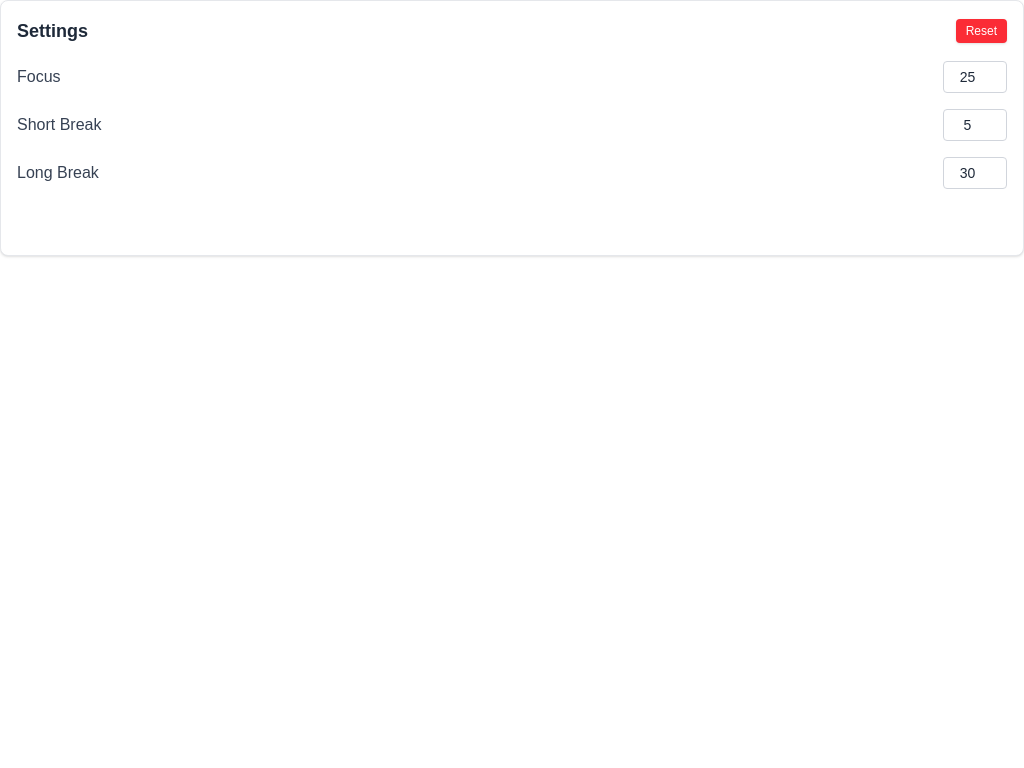
Test: Settings Component › Behavior #14: Reset button in Settings section › should show confirmation dialog when reset button is clicked
Click the button with aria-label "reset settings". click: [981, 31]
box: [956,19,1007,43]
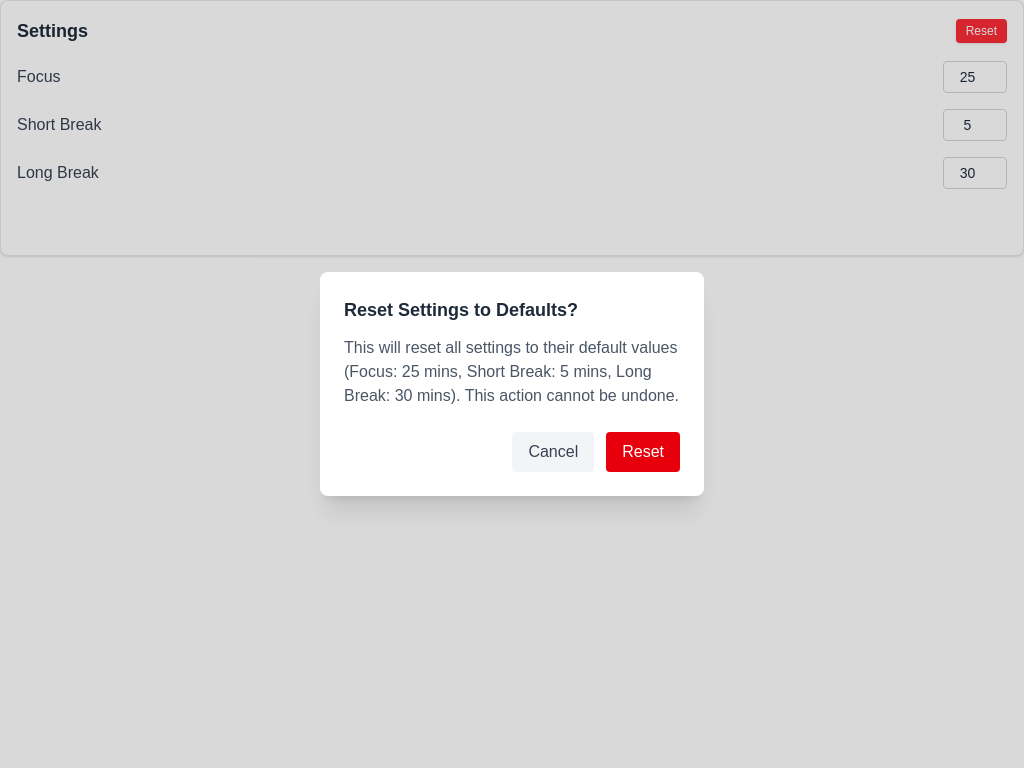
Now the heading "Reset Settings to Defaults?" is shown, box [344,300,578,320]
Now the button "Cancel" is shown, box [512,432,594,472]
